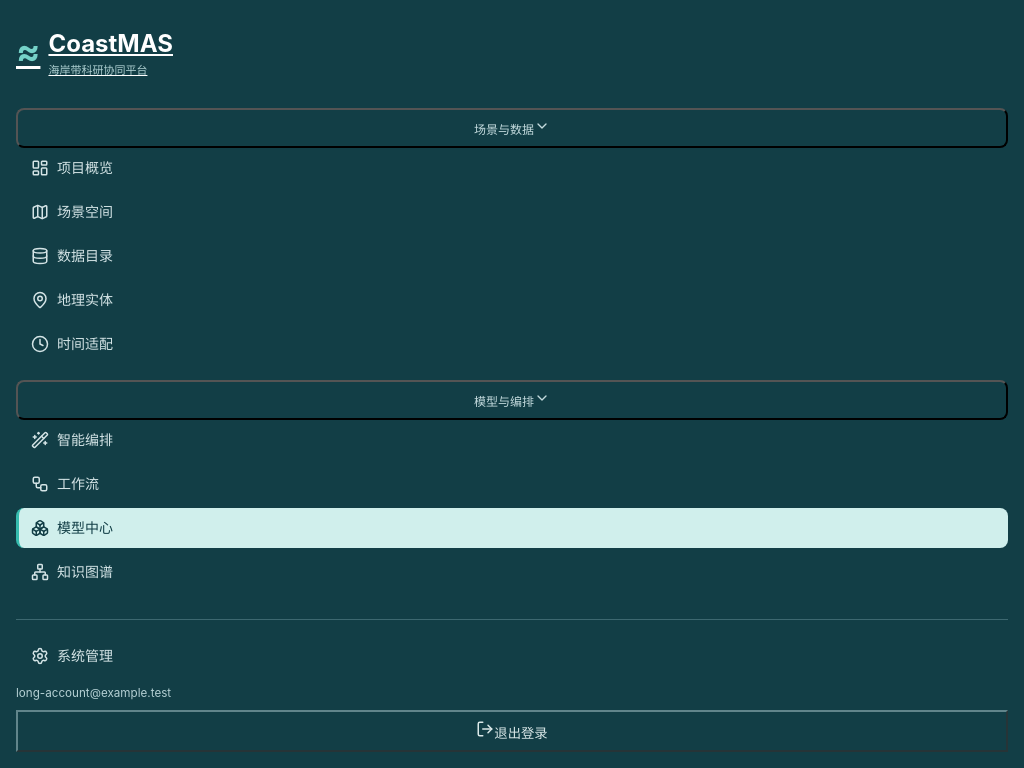
uses only supplied authorization and remains usable if saving preferences fails
Click the button "模型与编排" at (512, 400), box [16,380,1008,420]
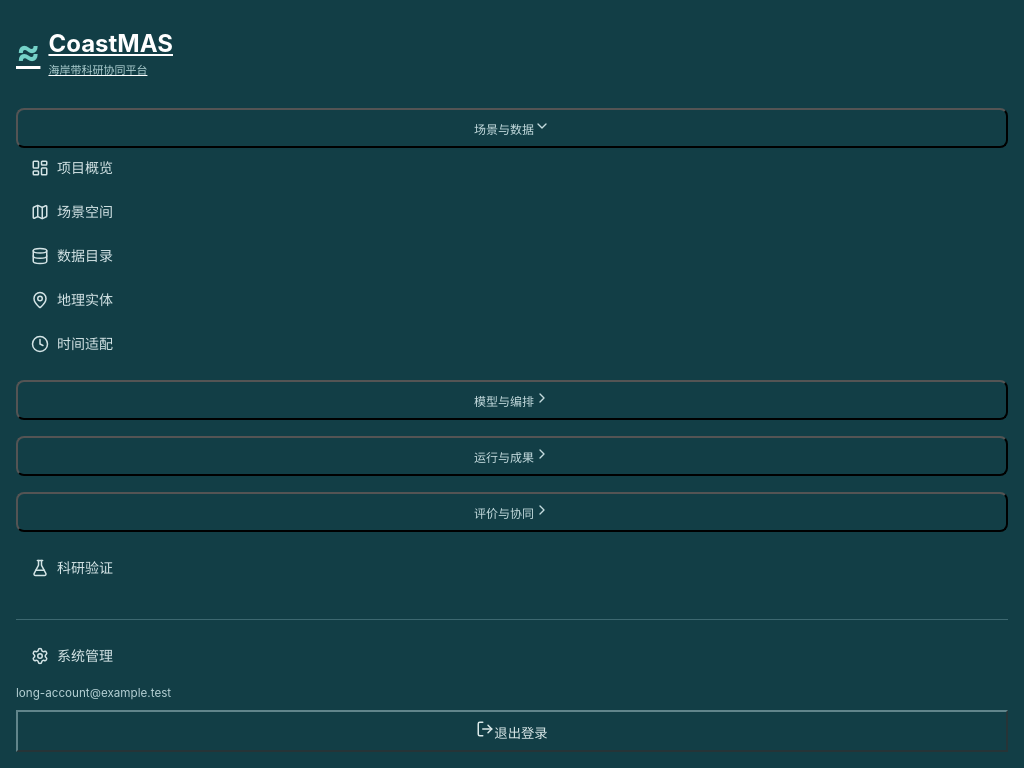
Now the button "模型与编排" is collapsed, box [16,380,1008,420]
